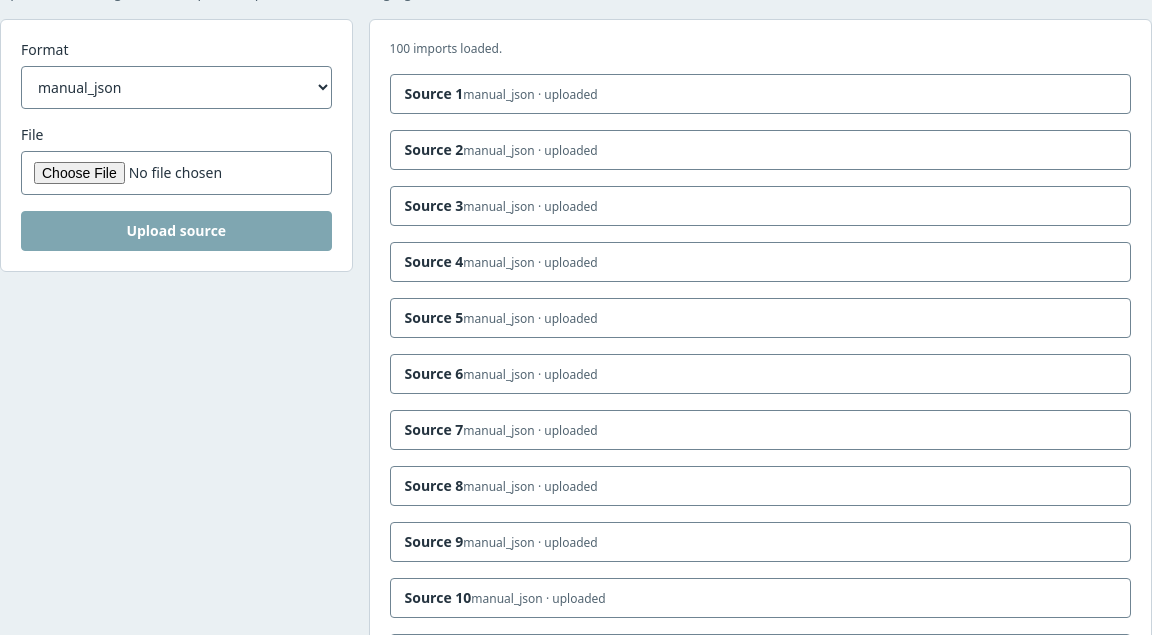
Test: loads the 101st import and deduplicates an overlapping page without losing selection
Click the button named "Source 1 manual_json": (434, 94) [390, 74, 1131, 114]
(page scrolled)
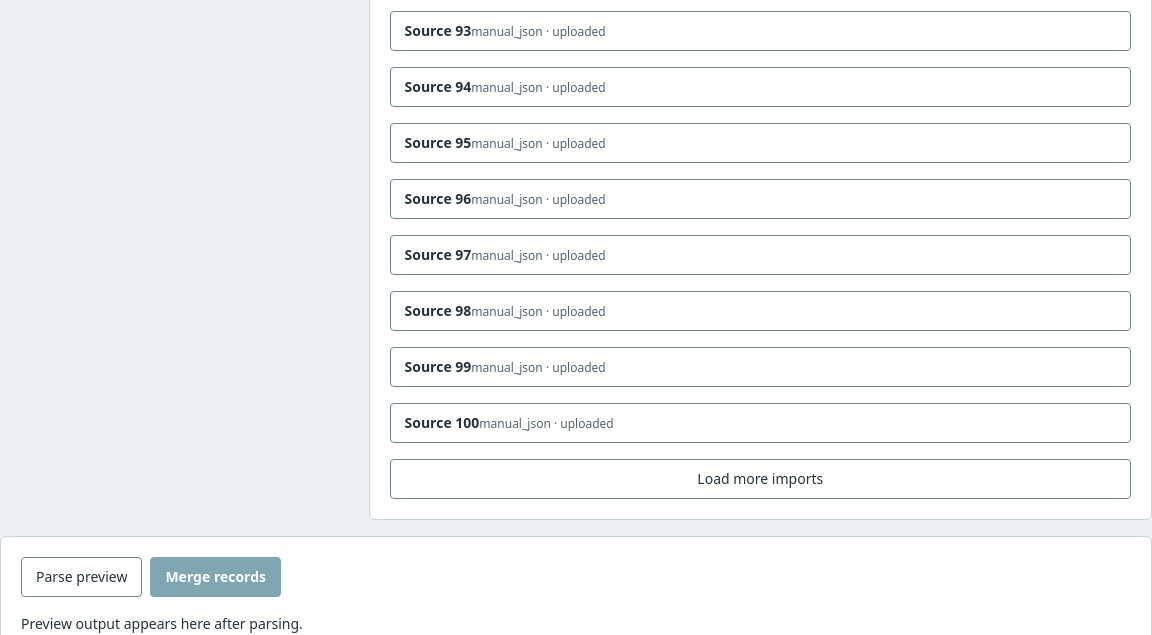
Click the button "Load more imports": (760, 479) [390, 459, 1131, 499]
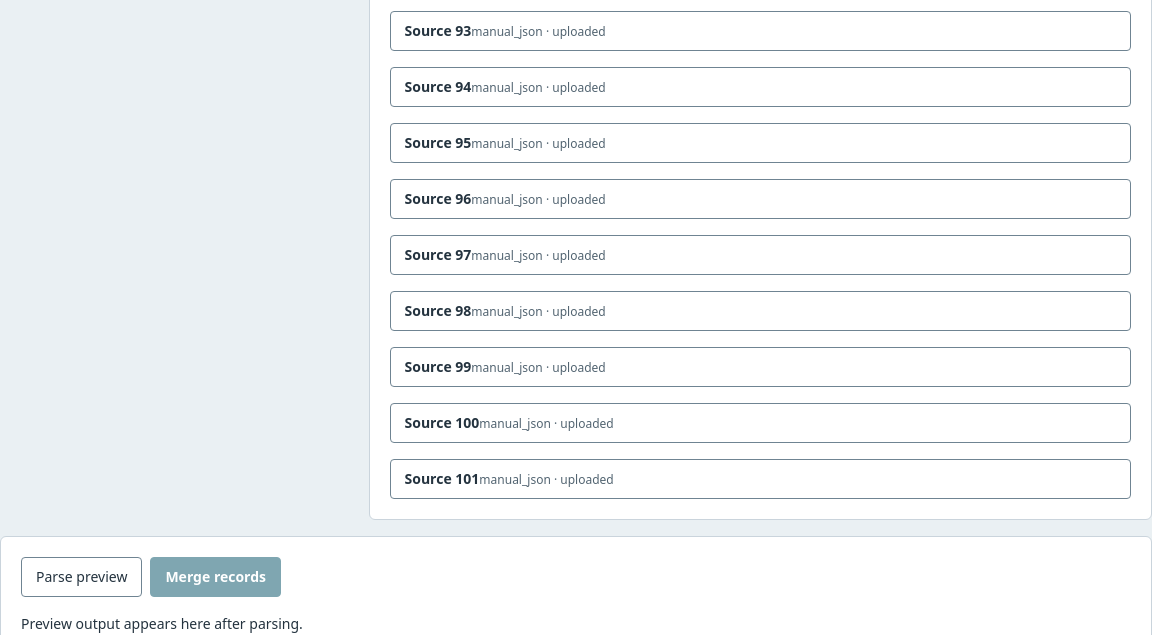
Now the button "Parse preview" is shown, box [21, 557, 142, 597]
Now the button "Source 101manual_json · uploaded" is shown, box [390, 459, 1131, 499]
Now the number of buttons "Source 100manual_json · uploaded" is 1, box [390, 403, 1131, 443]
